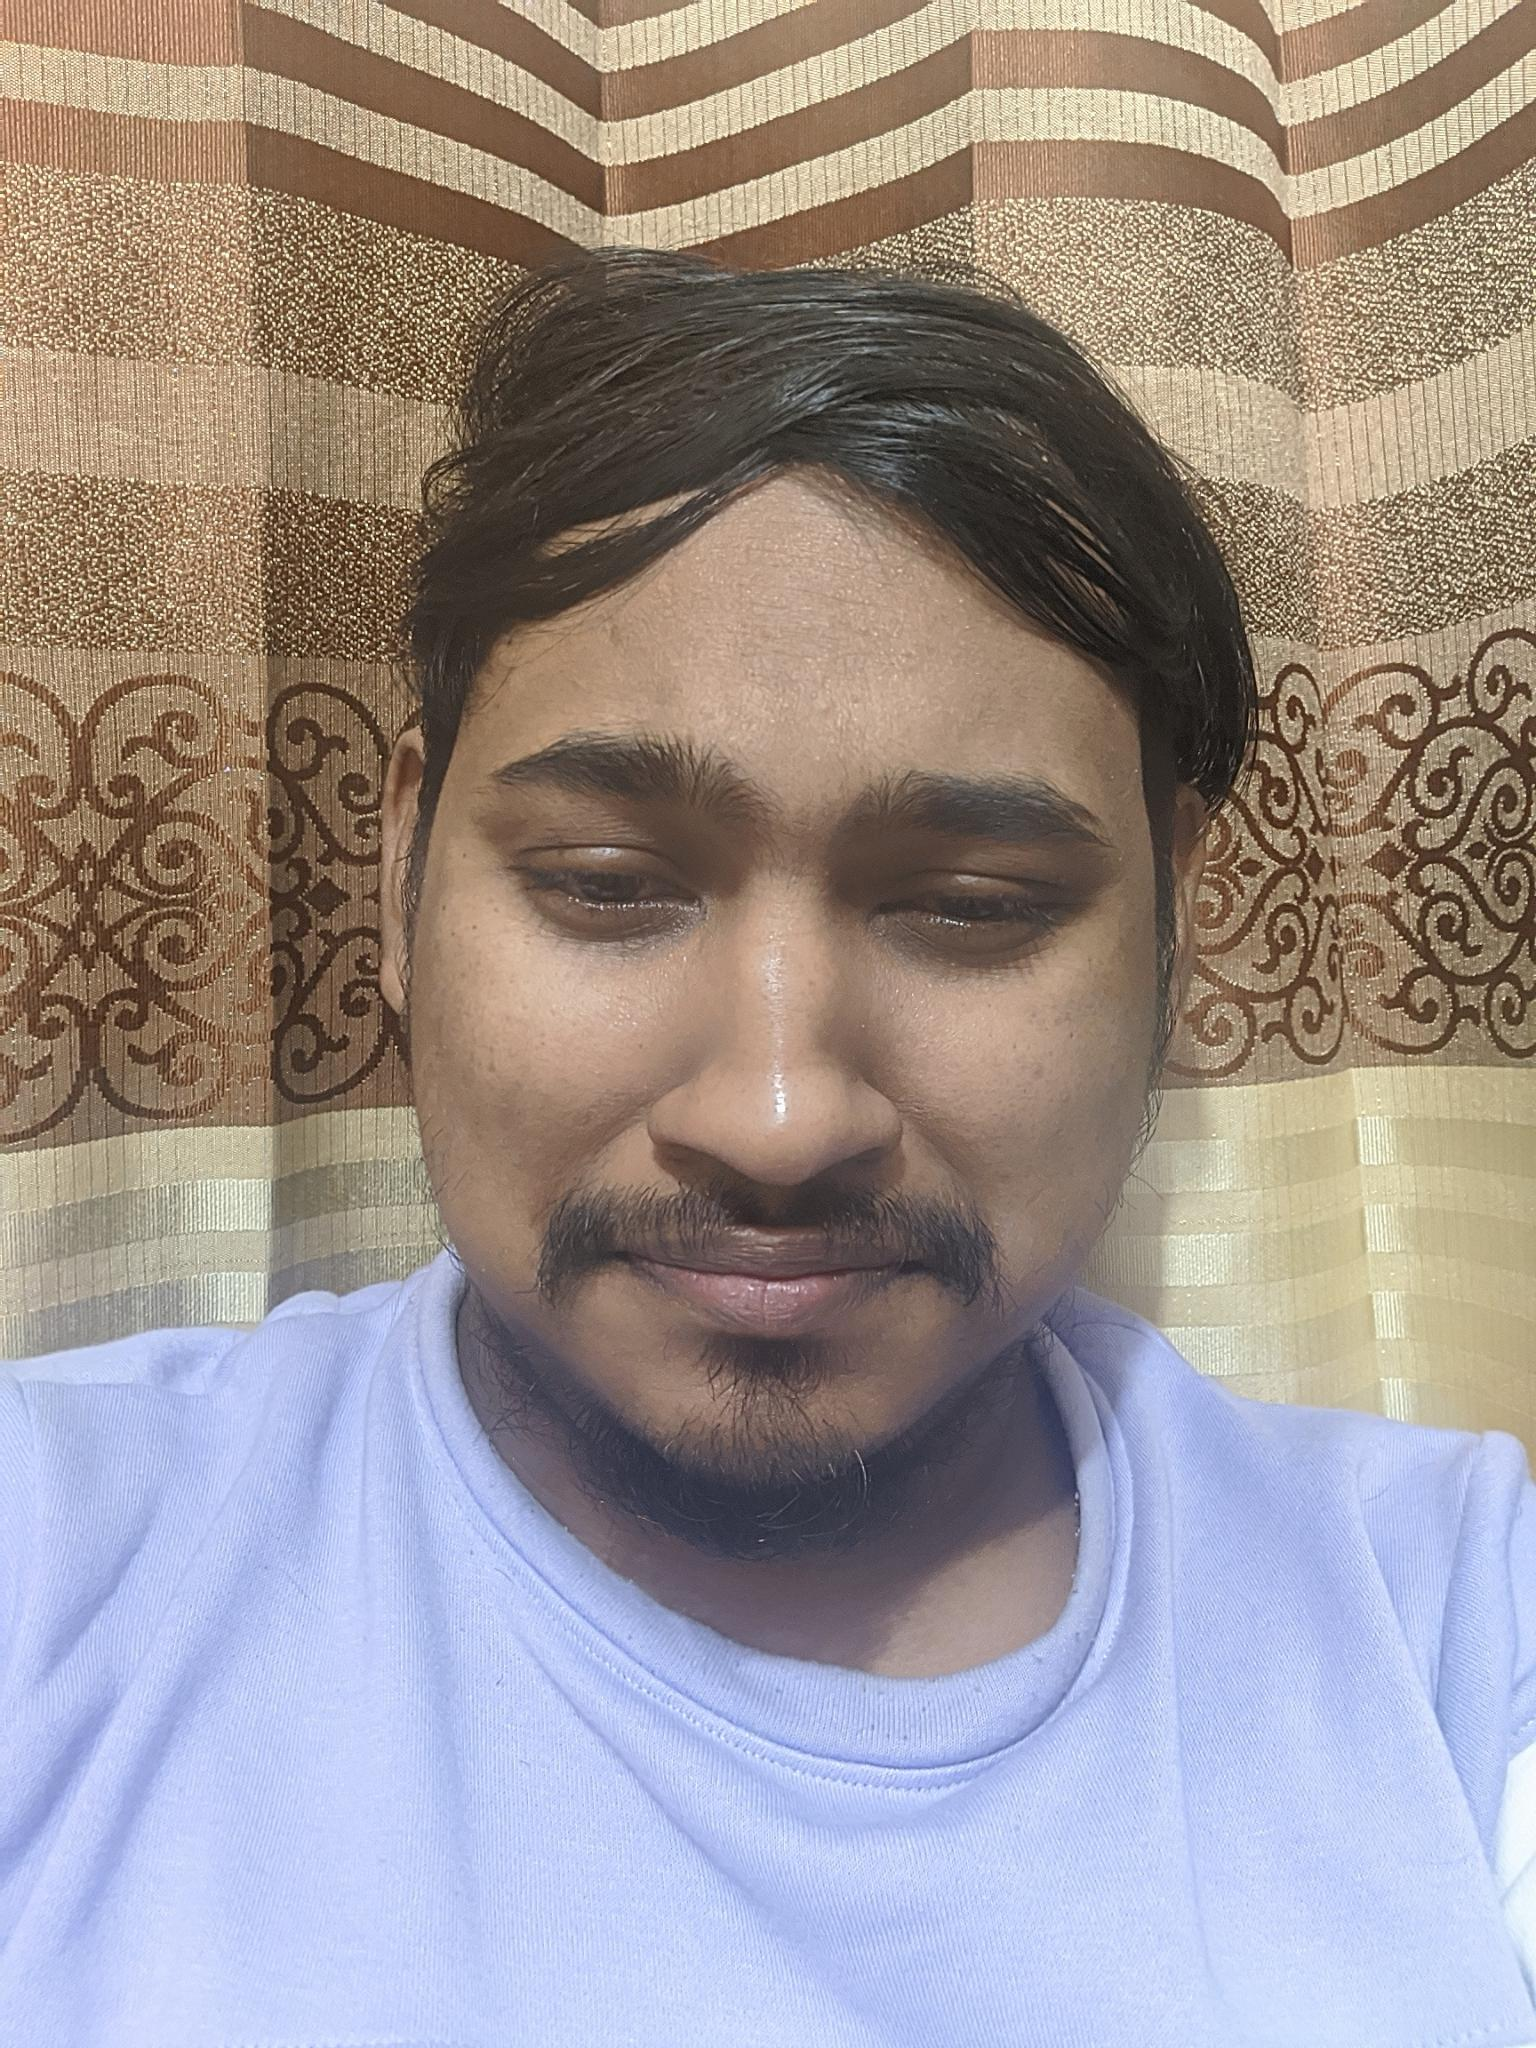Sad: (402, 637, 1158, 1479)
